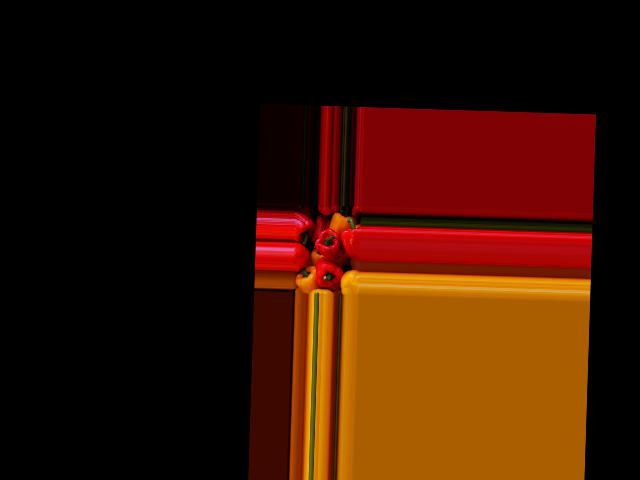bell_pepper: (297, 268, 319, 293)
